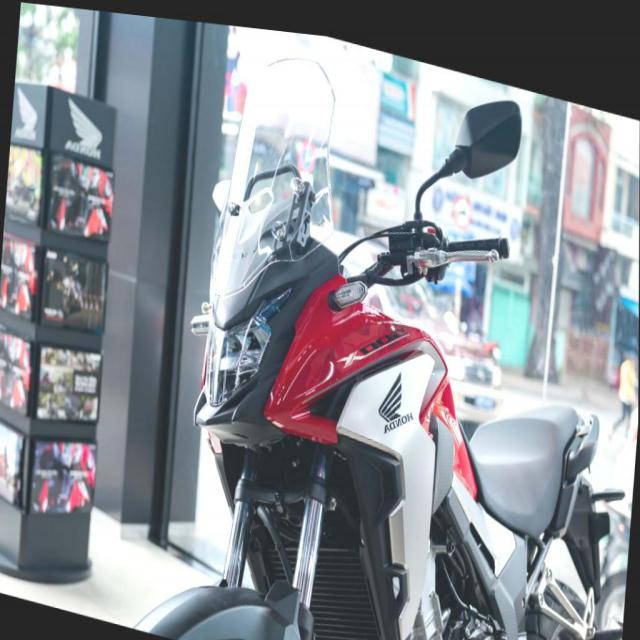CB500X: (130, 14, 640, 639)
